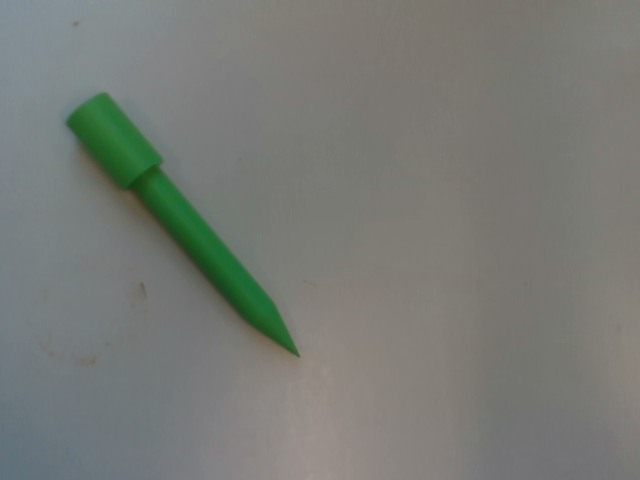Probe: (59, 82, 308, 367)
